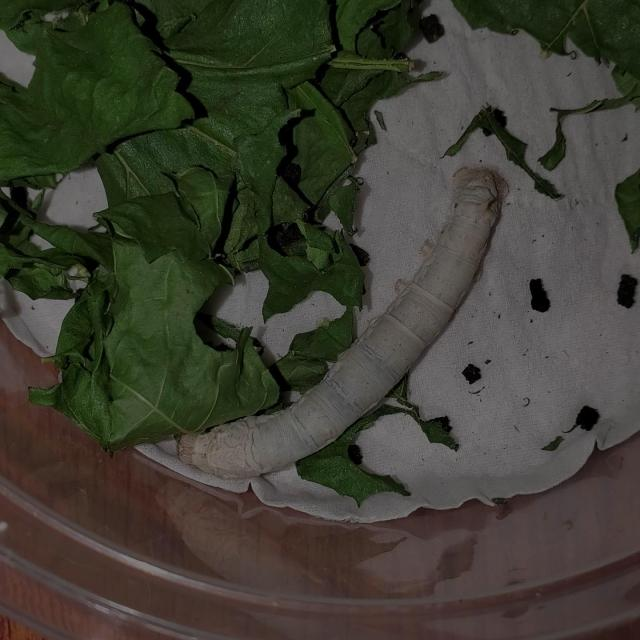Healthy: (153, 123, 517, 526)
